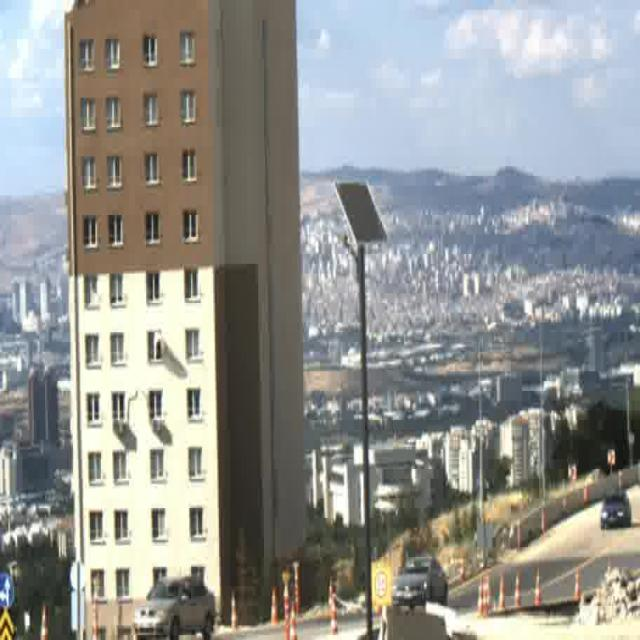Car: (138, 574, 215, 638), (394, 556, 447, 612), (600, 493, 632, 529)
